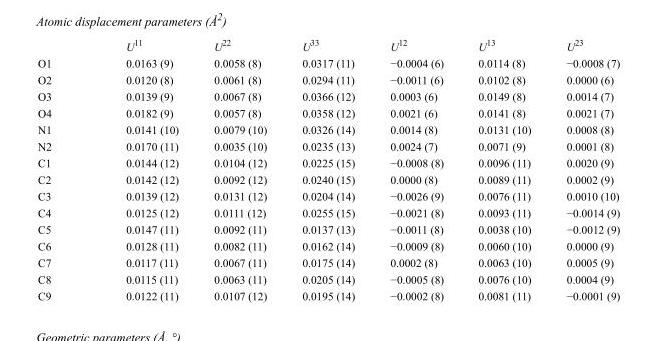table: (37, 37, 619, 301)
table column: (88, 37, 195, 301), (371, 37, 460, 301), (195, 37, 283, 301), (283, 37, 371, 301), (460, 37, 548, 301), (548, 37, 619, 301), (37, 37, 88, 301)
table column header: (37, 37, 619, 54)
table row: (37, 37, 619, 54), (37, 54, 619, 71), (37, 87, 619, 104), (37, 120, 619, 137), (37, 137, 619, 154), (37, 170, 619, 187), (37, 187, 619, 204), (37, 220, 619, 237), (37, 253, 619, 270), (37, 270, 619, 287), (37, 71, 619, 87), (37, 104, 619, 120), (37, 154, 619, 170), (37, 204, 619, 220), (37, 237, 619, 253), (37, 287, 619, 301)
